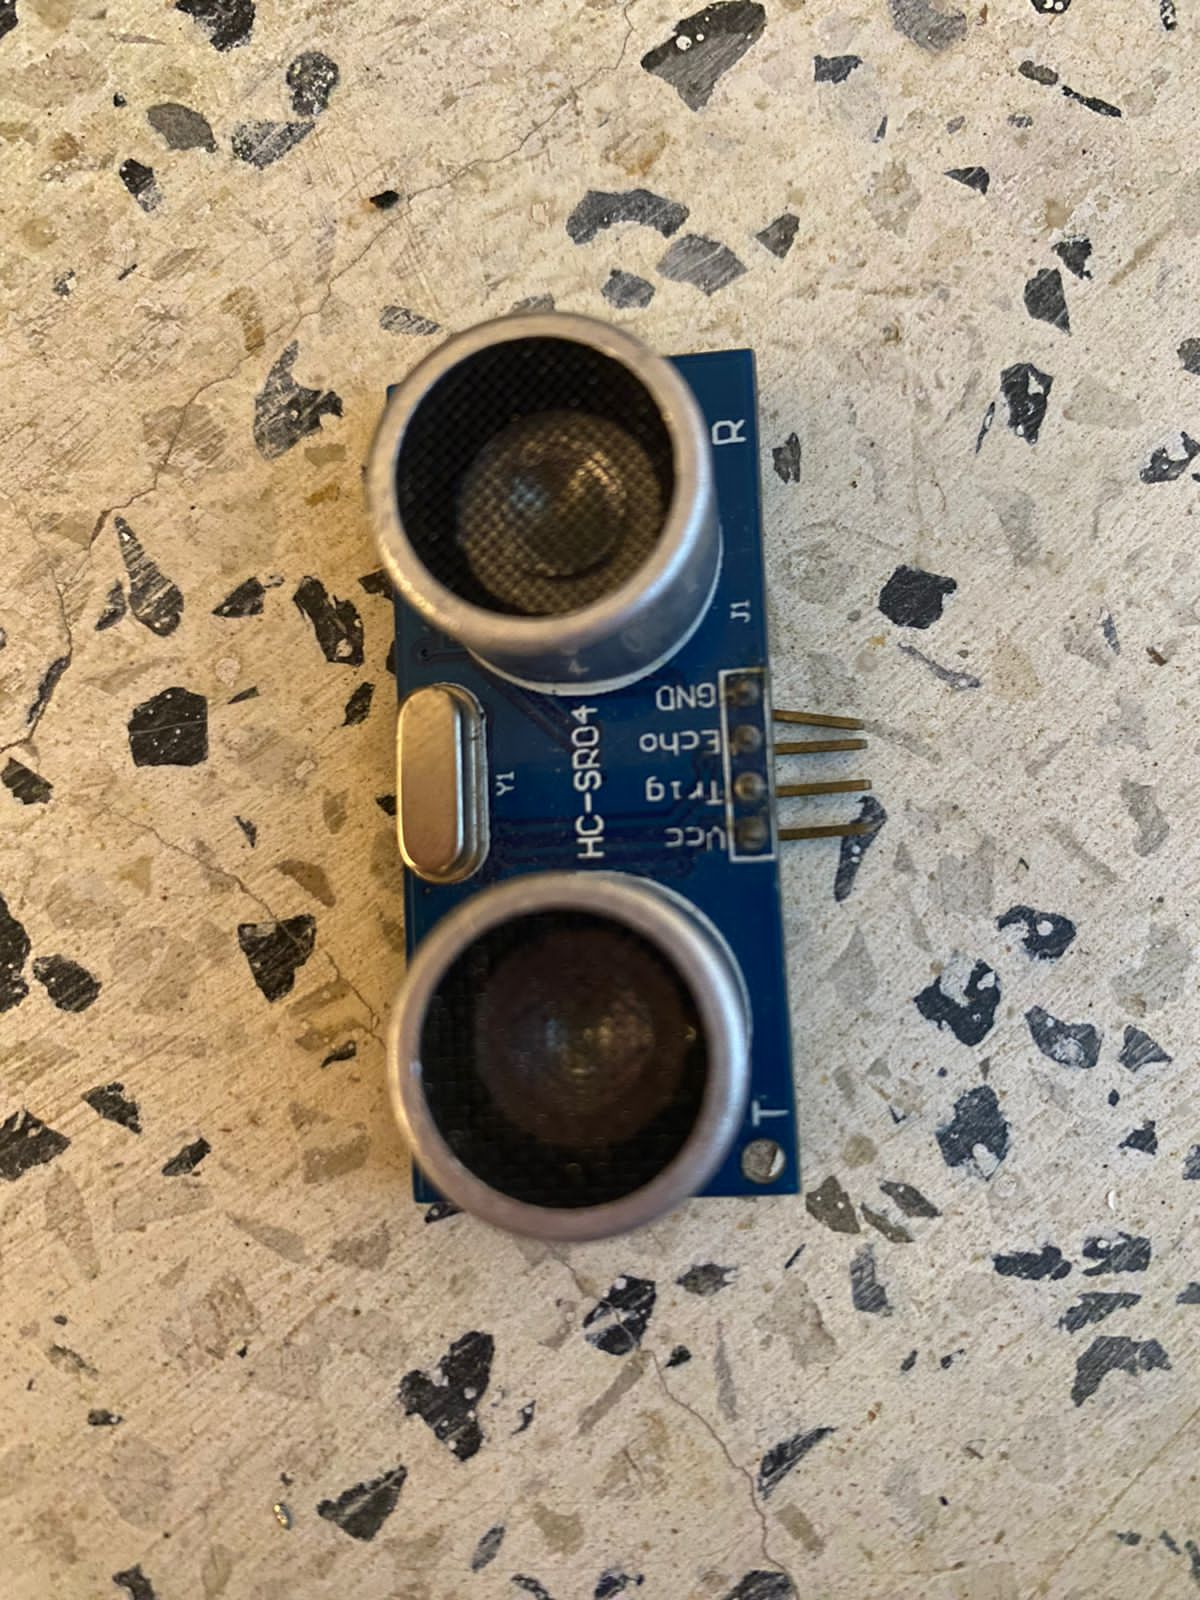capteur-ultrasonique: (361, 307, 881, 1245)
